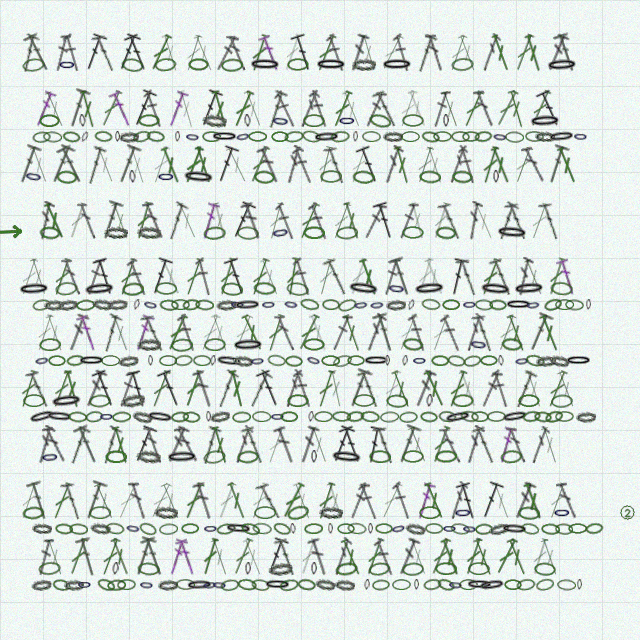chain: (347, 280, 380, 297), (182, 169, 215, 185), (83, 281, 116, 297), (479, 281, 512, 297), (50, 393, 83, 409), (330, 449, 363, 465), (413, 281, 446, 296), (496, 225, 528, 240), (513, 281, 545, 296), (28, 408, 56, 425), (286, 503, 310, 522), (546, 58, 578, 72), (529, 114, 561, 128), (18, 282, 50, 296), (232, 338, 264, 352), (444, 409, 472, 425), (166, 450, 198, 464), (120, 392, 146, 409), (368, 112, 392, 130), (501, 409, 529, 424), (249, 58, 281, 71), (315, 58, 347, 71), (381, 58, 413, 71), (268, 561, 293, 577), (215, 354, 243, 368), (146, 410, 174, 424), (478, 578, 506, 592), (202, 113, 227, 128), (136, 449, 161, 464), (22, 57, 45, 73), (121, 57, 144, 73), (286, 281, 309, 297), (203, 449, 226, 465), (335, 561, 358, 577), (368, 561, 391, 577), (488, 521, 510, 537), (548, 130, 575, 143), (46, 410, 73, 423), (225, 522, 252, 535), (154, 57, 177, 72), (451, 57, 474, 72), (55, 281, 78, 296), (253, 281, 276, 296), (550, 281, 573, 296), (500, 449, 523, 464), (38, 561, 61, 576), (337, 297, 358, 313), (332, 353, 353, 369), (240, 521, 261, 537), (402, 337, 424, 352), (501, 337, 523, 352), (209, 409, 231, 424), (313, 131, 340, 143), (234, 299, 261, 311), (501, 523, 528, 535), (186, 579, 213, 591), (352, 170, 375, 184), (203, 226, 226, 240), (22, 506, 45, 520), (137, 562, 160, 576), (138, 521, 158, 537), (272, 521, 292, 537), (96, 577, 116, 593), (436, 577, 456, 593), (301, 129, 322, 144), (299, 297, 320, 312), (352, 58, 376, 71), (104, 226, 128, 239), (137, 226, 161, 239), (137, 338, 161, 351), (154, 506, 178, 519), (319, 506, 343, 519), (221, 58, 243, 72), (56, 170, 78, 184), (419, 170, 441, 184), (39, 226, 61, 240), (237, 226, 259, 240), (336, 226, 358, 240), (435, 226, 457, 240), (122, 282, 144, 296), (221, 282, 243, 296), (171, 338, 193, 352), (89, 394, 111, 408), (386, 394, 408, 408), (551, 394, 573, 408), (237, 450, 259, 464), (518, 506, 540, 520), (402, 562, 424, 576), (534, 562, 556, 576), (132, 129, 152, 144), (543, 297, 563, 312), (525, 353, 545, 368), (544, 409, 564, 424), (535, 577, 555, 592), (211, 131, 238, 142), (505, 299, 532, 310), (78, 355, 105, 366), (363, 355, 390, 366), (565, 355, 592, 366), (264, 579, 291, 590), (466, 579, 493, 590), (254, 170, 275, 184), (452, 170, 473, 184), (57, 298, 78, 312), (118, 354, 139, 368), (549, 354, 570, 368), (132, 410, 153, 424), (405, 522, 426, 536), (31, 578, 52, 592), (287, 58, 309, 71), (138, 114, 160, 127), (303, 114, 325, 127), (402, 114, 424, 127), (320, 170, 342, 183), (303, 226, 325, 239), (402, 226, 424, 239), (155, 282, 177, 295), (39, 338, 61, 351), (204, 338, 226, 351), (303, 338, 325, 351), (23, 394, 45, 407), (287, 394, 309, 407), (353, 394, 375, 407), (452, 394, 474, 407), (518, 394, 540, 407), (105, 450, 127, 463), (369, 450, 391, 463), (402, 450, 424, 463), (435, 450, 457, 463), (89, 506, 111, 519), (254, 506, 276, 519), (419, 506, 441, 519), (435, 562, 457, 575), (468, 562, 490, 575), (24, 169, 43, 184), (271, 225, 290, 240), (387, 281, 406, 296), (469, 337, 488, 352), (216, 522, 236, 536), (450, 522, 470, 536), (520, 522, 540, 536), (220, 578, 240, 592), (279, 578, 299, 592), (188, 58, 209, 71), (39, 114, 60, 127), (92, 298, 113, 311), (107, 298, 128, 311), (90, 522, 111, 535), (315, 578, 336, 591), (271, 114, 290, 128), (62, 130, 81, 144), (421, 130, 440, 144), (32, 298, 51, 312), (447, 354, 466, 368), (463, 354, 482, 368), (52, 578, 71, 592), (251, 578, 270, 592), (284, 130, 304, 143), (330, 130, 350, 143), (421, 298, 441, 311), (360, 410, 380, 423), (105, 522, 125, 535), (252, 522, 272, 535), (347, 522, 367, 535), (237, 578, 257, 591), (516, 578, 536, 591), (305, 353, 322, 368), (216, 299, 237, 311), (41, 450, 59, 464), (94, 130, 113, 143), (146, 130, 165, 143), (474, 130, 493, 143), (182, 298, 201, 311), (66, 354, 85, 367), (174, 354, 193, 367), (267, 354, 286, 367), (85, 410, 104, 423), (346, 410, 365, 423), (438, 410, 457, 423), (460, 410, 479, 423), (522, 410, 541, 423), (585, 522, 604, 535), (297, 578, 316, 591), (423, 578, 442, 591), (119, 131, 139, 143), (44, 299, 64, 311), (159, 299, 179, 311), (386, 299, 406, 311), (233, 355, 253, 367), (536, 355, 556, 367), (576, 411, 596, 423), (64, 579, 84, 591), (158, 579, 178, 591), (335, 579, 355, 591), (142, 298, 159, 312), (58, 58, 76, 71), (338, 114, 356, 127), (157, 170, 175, 183), (454, 506, 472, 519), (553, 506, 571, 519), (32, 131, 51, 143), (43, 131, 62, 143), (505, 131, 524, 143), (76, 299, 95, 311), (195, 299, 214, 311), (565, 299, 584, 311), (68, 411, 87, 423), (112, 411, 131, 423), (182, 411, 201, 423), (232, 411, 251, 423), (380, 411, 399, 423), (399, 411, 418, 423), (69, 523, 88, 535), (159, 523, 178, 535), (541, 523, 560, 535), (107, 579, 126, 591), (557, 579, 576, 591), (390, 522, 407, 535), (383, 131, 403, 142), (535, 131, 555, 142), (32, 523, 52, 534), (475, 299, 493, 311), (489, 299, 507, 311), (285, 355, 303, 367), (171, 411, 189, 423), (420, 411, 438, 423), (534, 411, 552, 423), (55, 523, 73, 535), (475, 523, 493, 535), (555, 523, 573, 535), (372, 579, 390, 591), (202, 131, 221, 142), (248, 131, 267, 142), (362, 131, 381, 142), (401, 131, 420, 142), (433, 131, 452, 142), (451, 131, 470, 142), (525, 131, 544, 142), (171, 299, 190, 310), (555, 299, 574, 310), (101, 355, 120, 366), (321, 355, 340, 366), (252, 411, 271, 422), (314, 411, 333, 422), (332, 411, 351, 422), (487, 411, 506, 422), (555, 411, 574, 422), (304, 523, 323, 534), (568, 523, 587, 534), (117, 579, 136, 590), (176, 579, 195, 590), (392, 579, 411, 590), (459, 579, 478, 590), (235, 130, 251, 143), (283, 298, 299, 311), (34, 354, 50, 367), (125, 522, 141, 535), (271, 131, 289, 142), (462, 131, 480, 142), (322, 299, 340, 310), (442, 299, 460, 310), (48, 355, 66, 366), (159, 355, 177, 366), (193, 355, 211, 366), (347, 355, 365, 366), (431, 355, 449, 366), (480, 355, 498, 366), (280, 411, 298, 422), (471, 411, 489, 422), (181, 523, 199, 534), (337, 523, 355, 534), (375, 523, 393, 534), (425, 523, 443, 534), (504, 579, 522, 590), (492, 131, 508, 143), (353, 299, 369, 311), (369, 299, 385, 311), (525, 299, 541, 311), (514, 355, 530, 367), (202, 579, 218, 591), (185, 131, 200, 143), (250, 355, 265, 367), (462, 523, 477, 535), (139, 579, 154, 591), (212, 579, 227, 591), (448, 579, 463, 591), (573, 131, 588, 142), (230, 299, 245, 310), (261, 299, 276, 310), (462, 299, 477, 310), (412, 355, 427, 366), (99, 411, 114, 422), (270, 411, 285, 422), (203, 523, 218, 534), (442, 523, 457, 534), (77, 579, 92, 590), (80, 131, 89, 143), (407, 299, 415, 311), (79, 114, 86, 127), (244, 114, 251, 127), (129, 170, 136, 183), (426, 394, 433, 407), (112, 562, 119, 575), (443, 114, 449, 127), (493, 170, 499, 183), (311, 450, 317, 463), (245, 562, 251, 575), (311, 562, 317, 575), (133, 299, 140, 310), (210, 355, 216, 366), (402, 355, 408, 366), (498, 355, 504, 366), (308, 411, 314, 422), (290, 523, 296, 534), (364, 579, 370, 590), (115, 131, 120, 142), (175, 131, 180, 142), (353, 131, 358, 142), (586, 299, 591, 310), (148, 355, 153, 366), (385, 355, 390, 366), (206, 411, 211, 422), (328, 523, 333, 534), (368, 523, 373, 534), (414, 579, 419, 590), (577, 579, 582, 590)
double: (23, 32, 54, 73), (56, 144, 87, 185), (535, 88, 565, 129), (123, 32, 152, 73), (129, 88, 158, 129), (47, 144, 76, 185), (228, 200, 257, 241), (525, 312, 554, 353), (156, 368, 185, 409), (255, 368, 284, 409), (73, 424, 102, 465), (245, 369, 274, 409), (255, 481, 284, 521), (114, 32, 142, 73), (196, 88, 224, 129), (114, 144, 142, 185), (355, 144, 383, 185), (91, 368, 119, 409), (345, 368, 373, 409), (130, 424, 158, 465), (328, 424, 356, 465), (338, 424, 366, 465), (394, 424, 422, 465), (477, 480, 505, 521), (140, 536, 168, 577), (262, 536, 290, 577), (371, 89, 399, 129), (510, 369, 538, 409), (81, 32, 108, 73), (553, 32, 580, 73), (15, 144, 42, 185), (213, 144, 240, 185), (147, 256, 174, 297), (223, 256, 250, 297), (388, 256, 415, 297), (81, 480, 108, 521), (378, 33, 406, 72), (493, 89, 521, 128), (223, 145, 251, 184), (279, 481, 307, 520), (91, 33, 118, 73), (460, 89, 487, 129), (256, 145, 283, 185), (437, 201, 464, 241), (322, 257, 349, 297), (140, 313, 167, 353), (25, 369, 52, 409), (213, 369, 240, 409), (91, 481, 118, 521), (114, 481, 141, 521), (338, 537, 365, 577), (290, 32, 316, 73), (65, 88, 91, 129), (544, 144, 570, 185), (98, 200, 124, 241), (372, 200, 398, 241), (92, 256, 118, 297), (372, 312, 398, 353), (26, 480, 52, 521), (131, 536, 157, 577), (147, 33, 174, 72), (41, 201, 68, 240), (239, 313, 266, 352), (295, 313, 322, 352), (421, 369, 448, 408), (147, 481, 174, 520), (378, 481, 405, 520), (493, 537, 520, 576), (191, 33, 217, 73), (313, 33, 339, 73), (412, 33, 438, 73), (544, 33, 570, 73), (42, 89, 68, 129), (230, 89, 256, 129), (329, 89, 355, 129), (339, 89, 365, 129), (158, 145, 184, 185), (488, 145, 514, 185), (554, 145, 580, 185), (296, 201, 322, 241), (471, 201, 497, 241), (494, 201, 520, 241), (504, 201, 530, 241), (257, 257, 283, 297), (488, 257, 514, 297), (521, 257, 547, 297), (197, 313, 223, 353), (230, 313, 256, 353), (82, 369, 108, 409), (125, 369, 151, 409), (544, 369, 570, 409), (65, 425, 91, 465), (164, 425, 190, 465), (240, 425, 266, 465), (471, 425, 497, 465), (49, 481, 75, 521), (158, 481, 184, 521), (181, 481, 207, 521), (455, 481, 481, 521), (511, 481, 537, 521), (240, 537, 266, 577), (395, 537, 421, 577), (504, 537, 530, 577), (98, 89, 124, 128), (108, 89, 134, 128), (527, 89, 553, 128), (174, 201, 200, 240), (158, 257, 184, 296), (164, 313, 190, 352), (455, 33, 480, 73), (263, 89, 288, 129), (438, 89, 463, 129), (82, 145, 107, 185), (181, 145, 206, 185), (323, 145, 348, 185), (511, 145, 536, 185), (108, 201, 133, 241), (164, 201, 189, 241), (240, 201, 265, 241), (329, 201, 354, 241), (527, 201, 552, 241), (356, 257, 381, 297), (455, 257, 480, 297), (478, 257, 503, 297), (65, 313, 90, 353), (108, 313, 133, 353), (428, 313, 453, 353), (471, 313, 496, 353), (494, 313, 519, 353), (504, 313, 529, 353), (537, 313, 562, 353), (49, 369, 74, 409), (148, 369, 173, 409), (356, 369, 381, 409), (389, 369, 414, 409), (412, 369, 437, 409), (445, 369, 470, 409), (554, 369, 579, 409), (98, 425, 123, 465), (197, 425, 222, 465), (273, 425, 298, 465), (372, 425, 397, 465), (247, 481, 272, 521), (290, 481, 315, 521), (521, 481, 546, 521), (75, 537, 100, 577), (98, 537, 123, 577), (273, 537, 298, 577), (438, 537, 463, 577), (471, 537, 496, 577), (32, 89, 57, 128), (405, 89, 430, 128), (247, 145, 272, 184), (521, 145, 546, 184), (422, 257, 447, 296), (306, 313, 331, 352), (362, 313, 387, 352), (395, 313, 420, 352), (42, 425, 67, 464), (174, 425, 199, 464), (405, 425, 430, 464), (422, 481, 447, 520), (108, 537, 133, 576), (230, 537, 255, 576), (428, 537, 453, 576), (446, 33, 470, 73), (396, 89, 420, 129), (149, 145, 173, 185), (347, 145, 371, 185), (413, 145, 437, 185), (423, 145, 447, 185), (538, 201, 562, 241), (17, 257, 41, 297), (50, 257, 74, 297), (116, 257, 140, 297), (182, 257, 206, 297), (248, 257, 272, 297), (446, 257, 470, 297), (43, 313, 67, 353), (99, 313, 123, 353), (208, 313, 232, 353), (340, 313, 364, 353), (192, 369, 216, 409), (314, 369, 338, 409), (380, 369, 404, 409), (522, 369, 546, 409), (264, 425, 288, 465), (538, 425, 562, 465), (60, 481, 84, 521), (192, 481, 216, 521), (314, 481, 338, 521), (43, 537, 67, 577), (208, 537, 232, 577), (307, 537, 331, 577), (538, 537, 562, 577), (214, 34, 239, 72), (273, 90, 298, 128), (362, 202, 387, 240), (258, 33, 282, 72), (489, 33, 513, 72), (512, 33, 536, 72), (165, 89, 189, 128), (241, 89, 265, 128), (27, 145, 51, 184), (93, 145, 117, 184), (380, 145, 404, 184), (456, 369, 480, 408), (307, 425, 331, 464), (429, 425, 453, 464), (215, 481, 239, 520), (225, 481, 249, 520), (489, 481, 513, 520), (545, 481, 569, 520), (66, 537, 90, 576), (406, 537, 430, 576), (159, 33, 182, 73), (182, 33, 205, 73), (248, 33, 271, 73), (347, 33, 370, 73), (522, 33, 545, 73), (175, 89, 198, 129), (505, 89, 528, 129), (126, 145, 149, 185), (479, 145, 502, 185), (264, 313, 287, 353), (17, 369, 40, 409), (109, 425, 132, 465), (297, 425, 320, 465), (363, 425, 386, 465), (297, 90, 321, 128), (363, 90, 387, 128), (291, 146, 315, 184), (439, 314, 463, 352), (479, 370, 503, 408), (439, 426, 463, 464), (281, 33, 304, 72), (479, 33, 502, 72), (142, 89, 165, 128), (192, 145, 215, 184), (446, 145, 469, 184), (66, 201, 89, 240), (142, 201, 165, 240), (27, 257, 50, 296), (347, 257, 370, 296), (545, 257, 568, 296), (33, 313, 56, 352), (76, 313, 99, 352), (132, 313, 155, 352), (274, 313, 297, 352), (330, 313, 353, 352), (182, 369, 205, 408), (33, 425, 56, 464), (462, 425, 485, 464), (17, 481, 40, 520), (324, 481, 347, 520), (175, 537, 198, 576), (297, 537, 320, 576), (363, 537, 386, 576), (462, 537, 485, 576), (18, 33, 40, 73), (77, 89, 99, 129), (209, 89, 231, 129), (391, 145, 413, 185), (265, 201, 287, 241), (315, 257, 337, 297), (61, 369, 83, 409), (209, 425, 231, 465), (274, 202, 297, 240), (307, 202, 330, 240), (126, 258, 149, 296), (528, 426, 551, 464), (357, 482, 380, 520), (373, 538, 396, 576), (226, 33, 248, 72), (325, 33, 347, 72), (308, 89, 330, 128), (473, 89, 495, 128), (282, 145, 304, 184), (341, 201, 363, 240), (397, 201, 419, 240), (430, 201, 452, 240), (61, 257, 83, 296), (216, 257, 238, 296), (414, 257, 436, 296), (556, 257, 578, 296), (176, 313, 198, 352), (463, 313, 485, 352), (282, 369, 304, 408), (292, 369, 314, 408), (232, 425, 254, 464), (506, 425, 528, 464), (348, 481, 370, 520), (391, 481, 413, 520), (414, 481, 436, 520), (447, 481, 469, 520), (556, 481, 578, 520), (166, 537, 188, 576), (199, 537, 221, 576), (331, 537, 353, 576), (529, 537, 551, 576), (358, 33, 379, 72), (315, 145, 336, 184), (457, 145, 478, 184), (77, 201, 98, 240), (133, 201, 154, 240), (199, 201, 220, 240), (407, 201, 428, 240), (292, 257, 313, 296), (513, 257, 534, 296), (407, 313, 428, 352), (117, 369, 138, 408), (490, 369, 511, 408), (143, 425, 164, 464), (496, 425, 517, 464), (62, 33, 82, 72), (392, 33, 412, 72), (431, 89, 451, 128), (35, 201, 55, 240), (210, 201, 230, 240), (85, 257, 105, 296), (194, 257, 214, 296), (227, 369, 247, 408), (326, 369, 346, 408), (425, 33, 444, 72), (464, 201, 483, 240), (382, 257, 401, 296), (128, 481, 147, 520), (53, 33, 71, 72), (284, 257, 302, 296), (36, 537, 54, 576)
noise: (618, 503, 637, 522), (0, 224, 24, 239)
